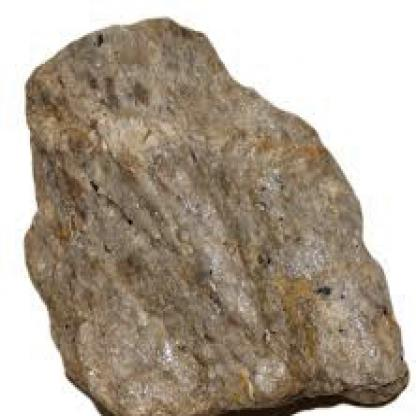Metamorphic_Quartize: (9, 21, 414, 414)
